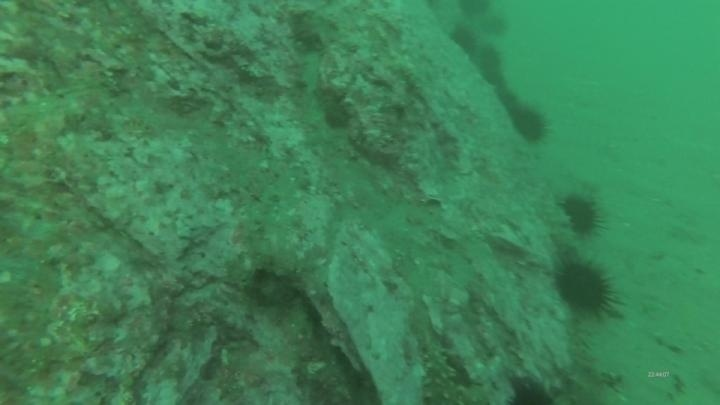echinus: (551, 256, 620, 319), (558, 191, 606, 239), (507, 102, 551, 146), (473, 44, 506, 86), (448, 24, 480, 56), (480, 13, 511, 39), (456, 0, 494, 20)
holothurian: (416, 331, 461, 405)
